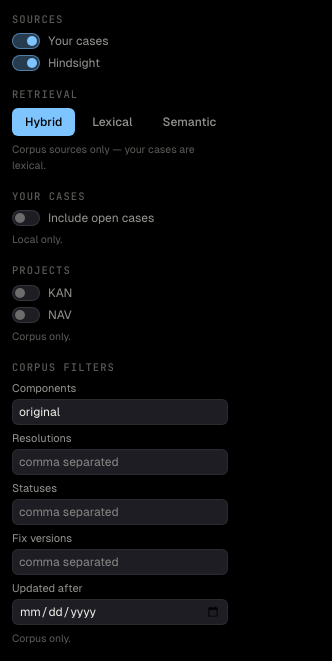
Scenario: ExplorerFilters › reverts to the prop value once committed, rather than sticking on stale typed text
Replace the text in the field labelled "Components" with "typed junk" at (120, 412), box [12,399,228,425]
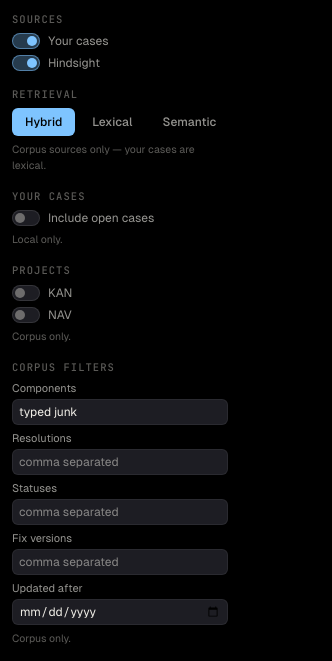
Leave the field labelled "Components", box [12,399,228,425]
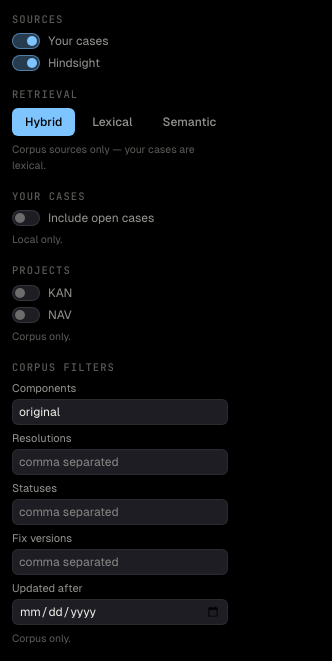
Expected: the field labelled "Components" holds "original", [12,399,228,425]
